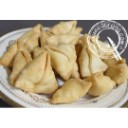samosa: (20, 51, 59, 94), (43, 43, 78, 76), (77, 44, 108, 77), (53, 80, 91, 104), (10, 43, 31, 83), (86, 72, 116, 96), (16, 24, 50, 44), (52, 20, 78, 36), (110, 61, 128, 83)
